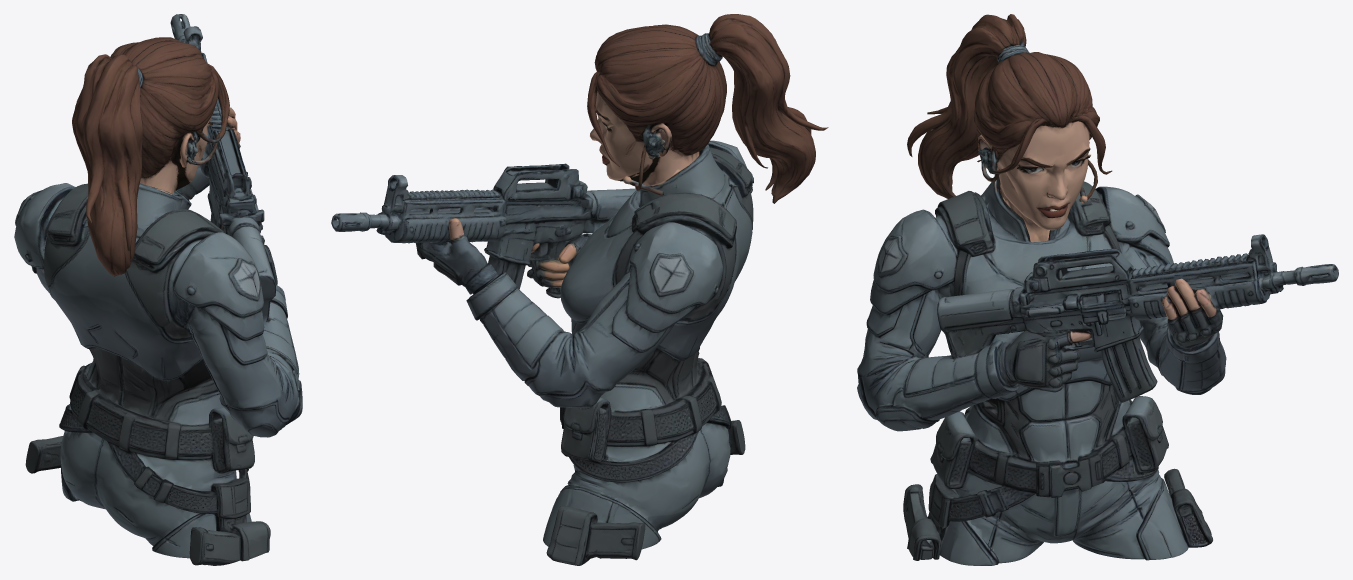
The model's file is sheildrecruit.glb.
The picture shows the model from 3 angles, left to right: view 1: azimuth 30°, elevation 25°; view 2: azimuth 150°, elevation 25°; view 3: azimuth 270°, elevation 25°; orthographic projection.
Parts seen in each view (by area): view 1: tripo_node_91bdd4b6-bf03-48f4-8bdf-db7817048072; view 2: tripo_node_91bdd4b6-bf03-48f4-8bdf-db7817048072; view 3: tripo_node_91bdd4b6-bf03-48f4-8bdf-db7817048072.
Part boxes in pixels (left/top/right/bottom): tripo_node_91bdd4b6-bf03-48f4-8bdf-db7817048072: left=14, top=14, right=302, bottom=565; tripo_node_91bdd4b6-bf03-48f4-8bdf-db7817048072: left=331, top=14, right=828, bottom=565; tripo_node_91bdd4b6-bf03-48f4-8bdf-db7817048072: left=857, top=14, right=1338, bottom=565.
Bounding box in the file's own units: 0.6367 × 1 × 0.8922.
1 material, 1 textured.
